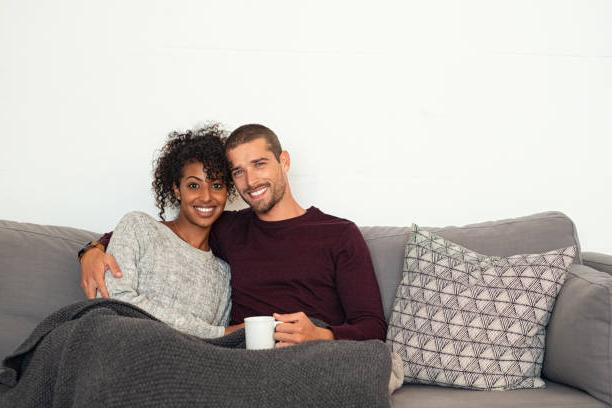blanket: (0, 297, 394, 408)
sweater: (78, 203, 388, 343), (94, 210, 232, 343)
